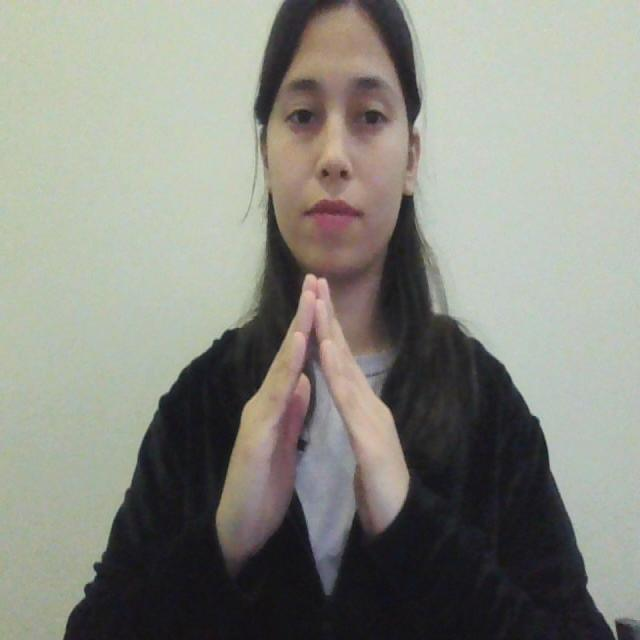Ev: (213, 264, 442, 594)
